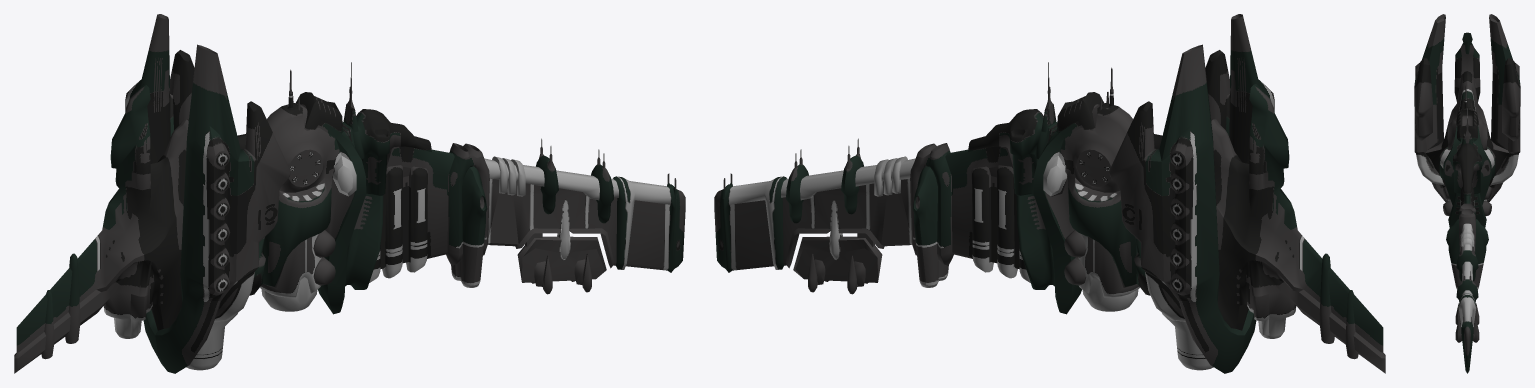
The model's file is myrmidon.glb.
The picture shows the model from 3 angles, left to right: view 1: azimuth 30°, elevation 25°; view 2: azimuth 150°, elevation 25°; view 3: azimuth 270°, elevation 25°; orthographic projection. The views are drawn at different scales.
Parts seen in each view (by area): view 1: Myrmidon; view 2: Myrmidon; view 3: Myrmidon.
Boxes of the visible parts, <box> form: Myrmidon: <box>14,14,685,373</box>; Myrmidon: <box>714,14,1385,373</box>; Myrmidon: <box>1414,14,1520,373</box>.
Size of the model in its own units: 601 by 311 by 138.
Materials: 1 (1 with a texture image).
